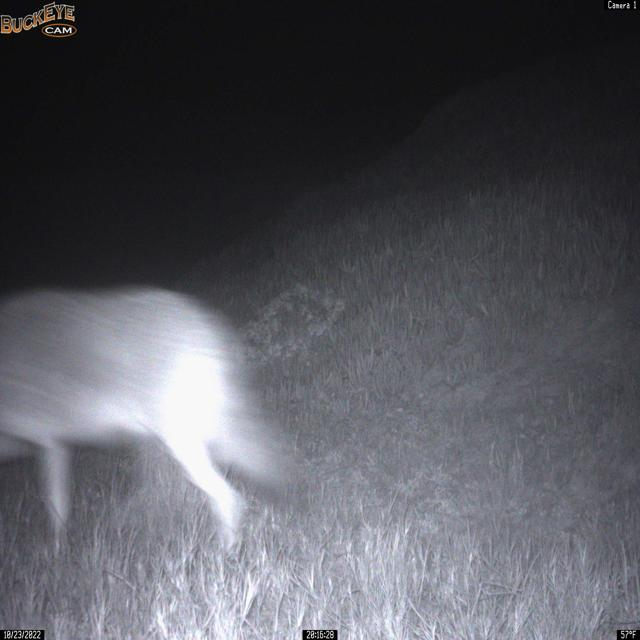coyote: (0, 280, 303, 567)
